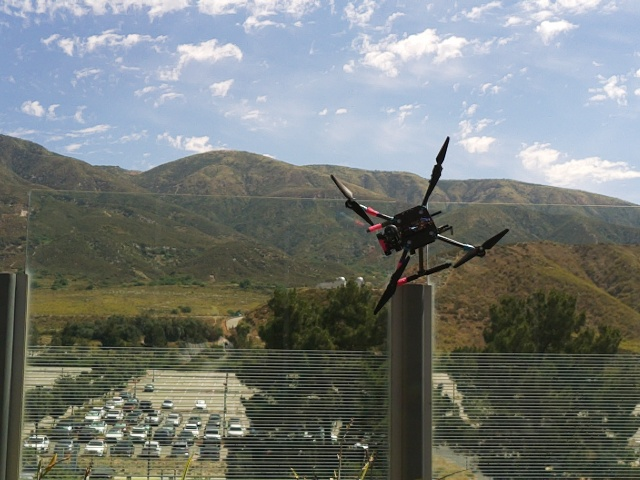quadcopter: (326, 124, 521, 326)
